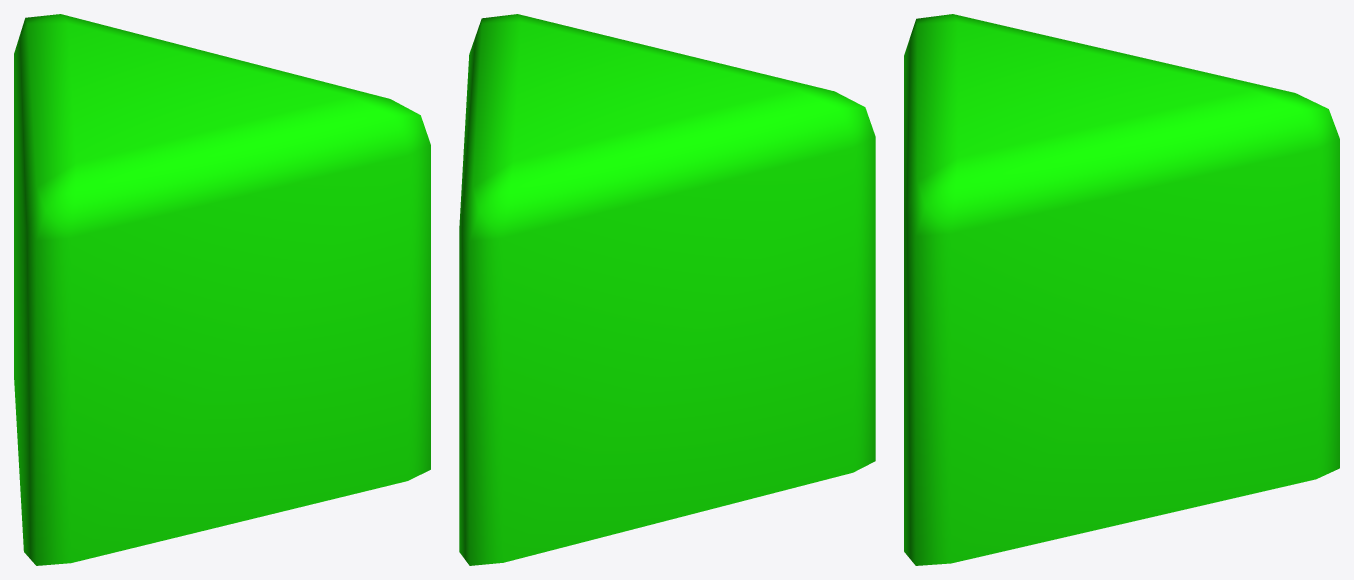
The model's file is block_shapes_triangle_01.FBX.
3 renders of one model, left to right at view 1: azimuth 30°, elevation 25°; view 2: azimuth 150°, elevation 25°; view 3: azimuth 270°, elevation 25°, orthographic.
Visible parts, largest first — view 1: block_shapes_triangle_01; view 2: block_shapes_triangle_01; view 3: block_shapes_triangle_01.
Part boxes in pixels (left/top/right/bottom): block_shapes_triangle_01: left=14, top=14, right=430, bottom=565; block_shapes_triangle_01: left=459, top=14, right=875, bottom=565; block_shapes_triangle_01: left=904, top=14, right=1339, bottom=565.
Size of the model in its own units: 364 by 329 by 344.
